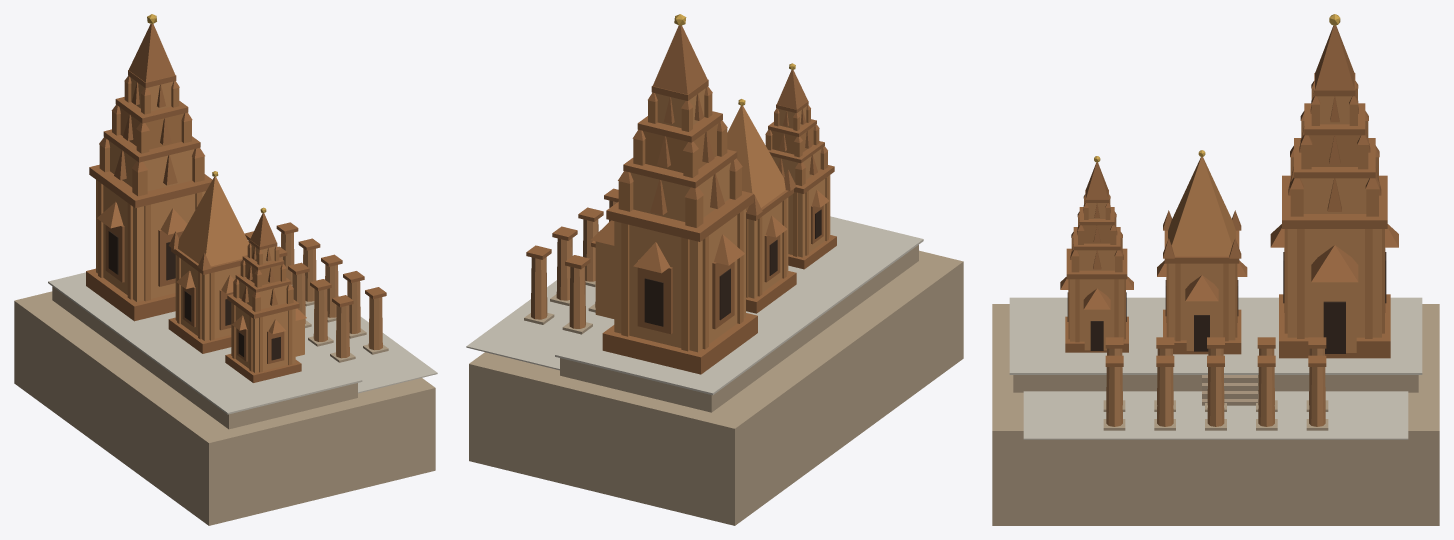
Rendered from ponagar.glb.
The picture shows the model from 3 angles, left to right: view 1: azimuth 30°, elevation 25°; view 2: azimuth 150°, elevation 25°; view 3: azimuth 270°, elevation 25°; orthographic projection. The views are drawn at different scales.
Visible parts, largest first — view 1: ponagar; view 2: ponagar; view 3: ponagar.
Part boxes in pixels (x1,y1,x2,y2): ponagar: (14,14,437,525); ponagar: (466,14,963,525); ponagar: (992,14,1439,525).
Size of the model in its own units: 9.2 by 13.78 by 12.8.
